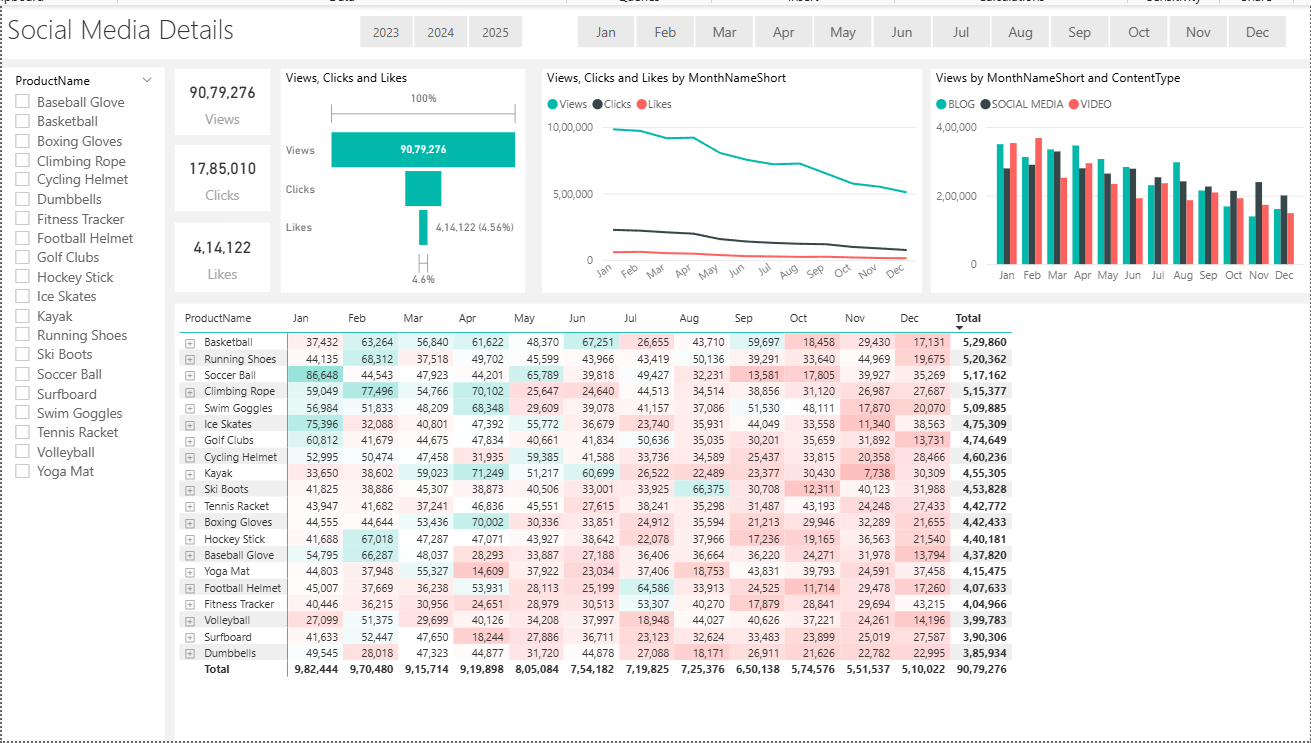

This screenshot's page, from the dashboard's own definition file:
{"tool":"powerbi","page":{"name":"Social Media Details","canvas":[1280,720],"ordinal":2},"visuals":[{"type":"textbox","box":[0,0,1280,52.6],"z":0},{"type":"slicer","fields":{"Values":["dim_products.ProductName"]},"box":[0,61.6,159.5,658.5],"z":1000},{"type":"lineChart","fields":{"Y":["_Calculations.Views","_Calculations.Clicks","_Calculations.Likes"],"Category":["Calendar.MonthNameShort"]},"box":[528.5,61.9,371.6,218.8],"z":2000},{"type":"funnel","fields":{"Y":["_Calculations.Views","_Calculations.Clicks","_Calculations.Likes"]},"box":[272.5,61.9,239.5,218.8],"z":3000},{"type":"card","fields":{"Values":["_Calculations.Views"]},"box":[168.3,61.9,93.9,65],"z":4000},{"type":"card","fields":{"Values":["_Calculations.Clicks"]},"box":[168.3,137.3,93.9,65],"z":5000},{"type":"card","fields":{"Values":["_Calculations.Likes"]},"box":[168.3,212.6,93.9,68.1],"z":6000},{"type":"slicer","fields":{"Values":["Calendar.MonthNameShort"]},"box":[536.8,4.1,743.2,44.4],"z":7000},{"type":"slicer","fields":{"Values":["Calendar.Year"]},"box":[324.1,4.1,208.5,44.4],"z":8000},{"type":"pivotTable","fields":{"Rows":["dim_products.ProductName","fact_engagement.ContentType"],"Values":["_Calculations.Views"],"Columns":["Calendar.MonthNameShort"]},"box":[168.3,292.1,1110.7,428.4],"z":9000},{"type":"clusteredColumnChart","fields":{"Category":["Calendar.MonthNameShort"],"Series":["fact_engagement.ContentType"],"Y":["_Calculations.Views"]},"box":[908.4,61.9,370.6,218.8],"z":10000}]}

Visuals, with their boxes on the page's 1280x720 design canvas (x1, y1, x2, y2). These are canvas units, not pixel positions in the 1311x743 screenshot, which may show the page scaled, cropped or inside an application window:
textbox: (0, 0, 1280, 53)
slicer - dim_products.ProductName: (0, 62, 160, 720)
lineChart - _Calculations.Views x _Calculations.Clicks: (528, 62, 900, 281)
funnel - _Calculations.Views x _Calculations.Clicks: (272, 62, 512, 281)
card - _Calculations.Views: (168, 62, 262, 127)
card - _Calculations.Clicks: (168, 137, 262, 202)
card - _Calculations.Likes: (168, 213, 262, 281)
slicer - Calendar.MonthNameShort: (537, 4, 1280, 48)
slicer - Calendar.Year: (324, 4, 533, 48)
pivotTable - dim_products.ProductName x fact_engagement.ContentType: (168, 292, 1279, 720)
clusteredColumnChart - Calendar.MonthNameShort x fact_engagement.ContentType: (908, 62, 1279, 281)
